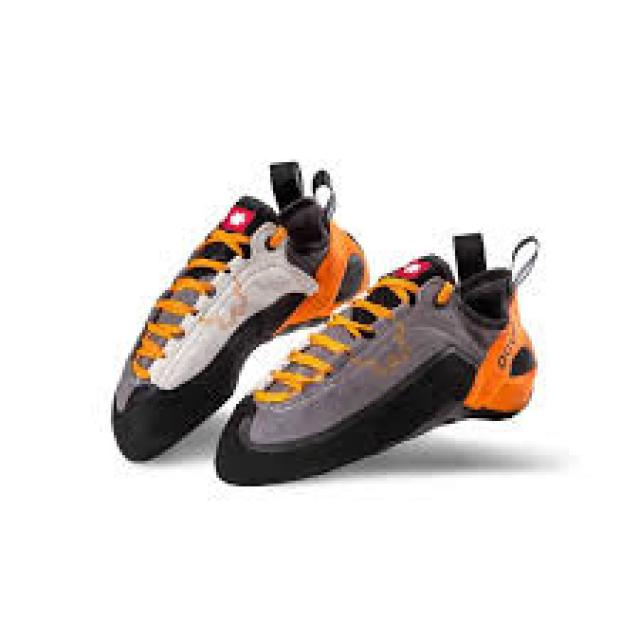climbing-shoes: (212, 235, 540, 490), (107, 158, 371, 464)
